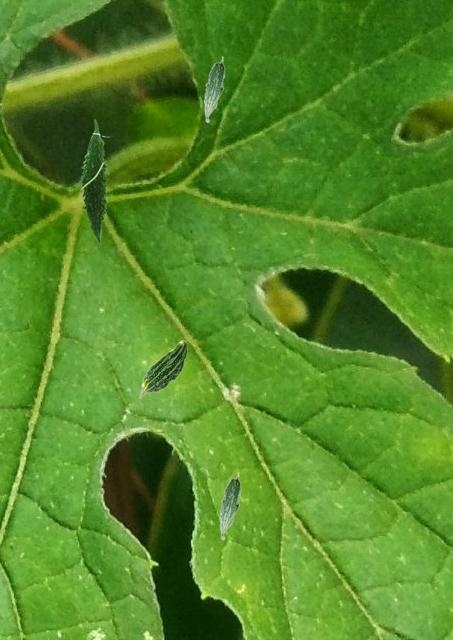ampalaya: (78, 118, 112, 244), (139, 340, 188, 398), (219, 472, 241, 540), (203, 56, 225, 123)
